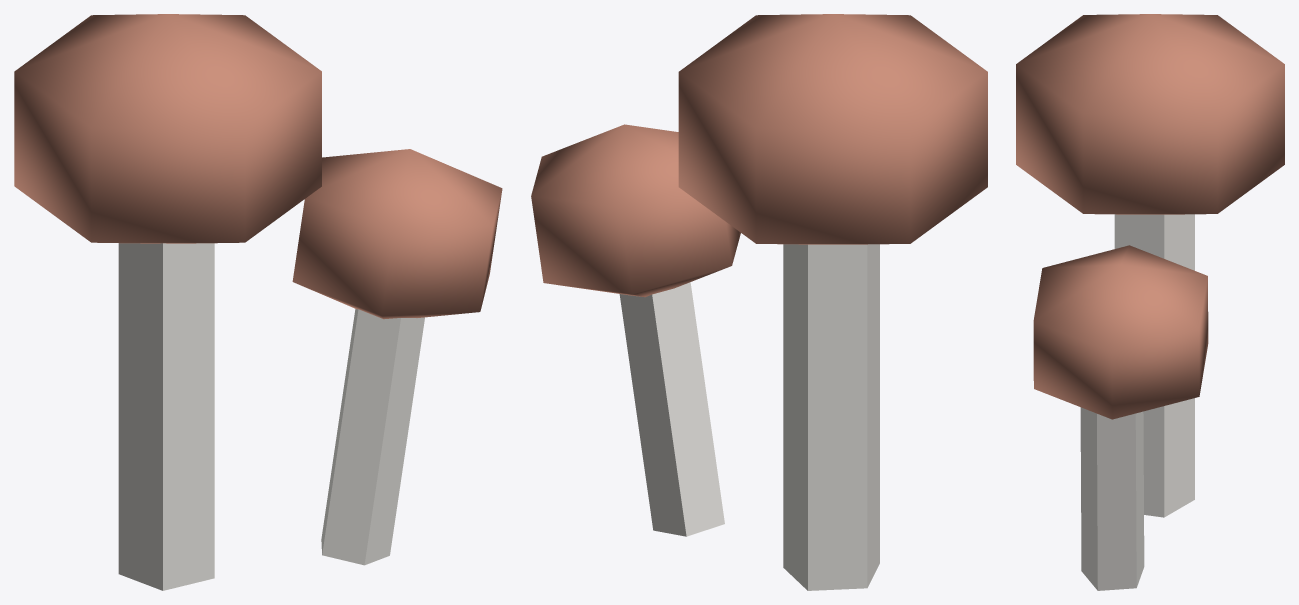
Rendered from mushroom-pair.glb.
3 renders of one model, left to right at view 1: azimuth 30°, elevation 25°; view 2: azimuth 150°, elevation 25°; view 3: azimuth 270°, elevation 25°, orthographic. The views are drawn at different scales.
Parts seen in each view (by area): view 1: mushroom-pair; view 2: mushroom-pair; view 3: mushroom-pair.
Boxes of the visible parts, x1,y1,x2,y2 form: mushroom-pair: [14, 14, 502, 590]; mushroom-pair: [531, 14, 987, 590]; mushroom-pair: [1016, 14, 1284, 590].
Size of the model in its own units: 0.1168 by 0.1478 by 0.0727.
